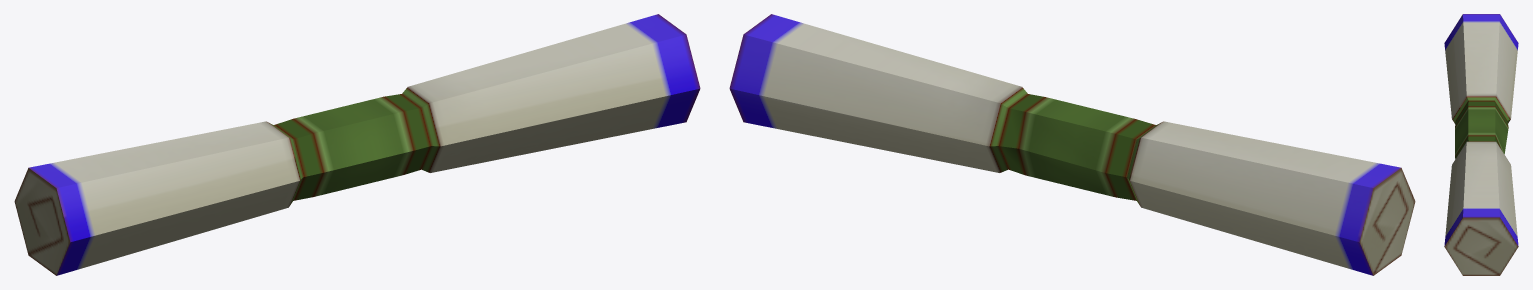
The model's file is scroll2.FBX.
3 renders of one model, left to right at view 1: azimuth 30°, elevation 25°; view 2: azimuth 150°, elevation 25°; view 3: azimuth 270°, elevation 25°, orthographic. The views are drawn at different scales.
Visible parts, largest first — view 1: 오브젝트113; view 2: 오브젝트113; view 3: 오브젝트113.
Part boxes in pixels (x1=…): 오브젝트113: x1=14, y1=14, x2=700, y2=275; 오브젝트113: x1=729, y1=14, x2=1415, y2=275; 오브젝트113: x1=1444, y1=14, x2=1518, y2=275.
Bounding box in the file's own units: 97.57 × 12.99 × 15.
